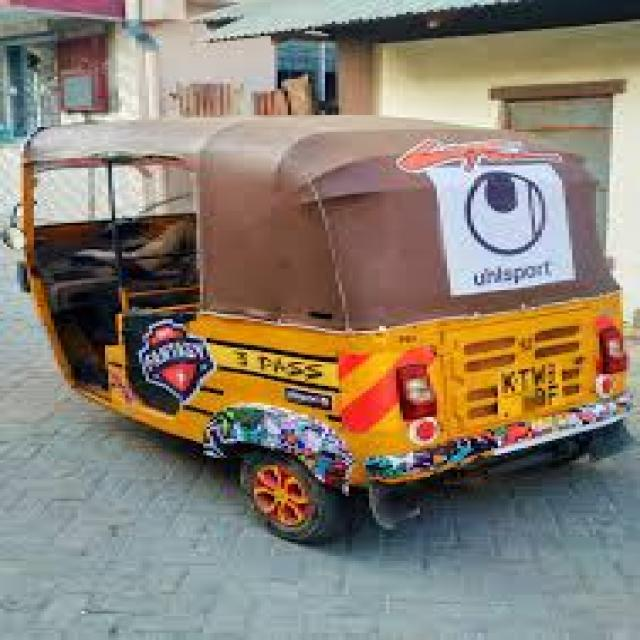tuktuk: (0, 65, 636, 579)
